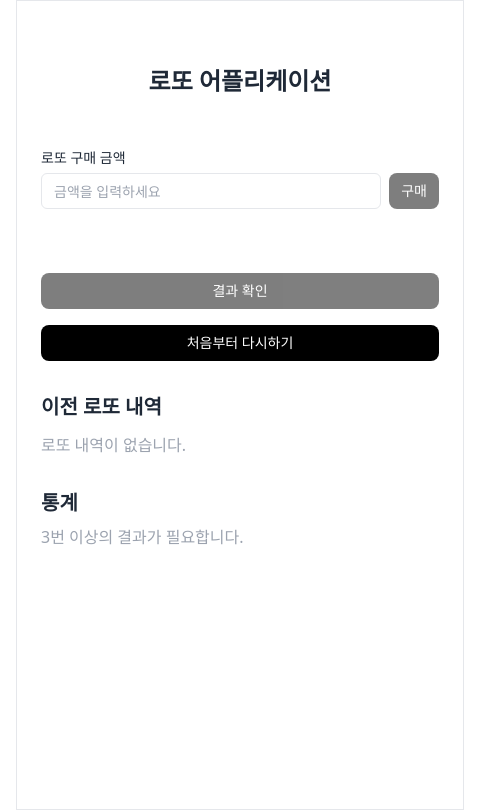
Test: 1.4. 초기화 › 처음부터 다시하기 버튼을 클릭하면 로또 어플리케이션의 처음 상태로 돌아갑니다. 모든 데이터가 초기화되어야 합니다.
Type "1000" into the field with test id "lotto-amount-input". click: (211, 191)
box: [41,173,381,209]
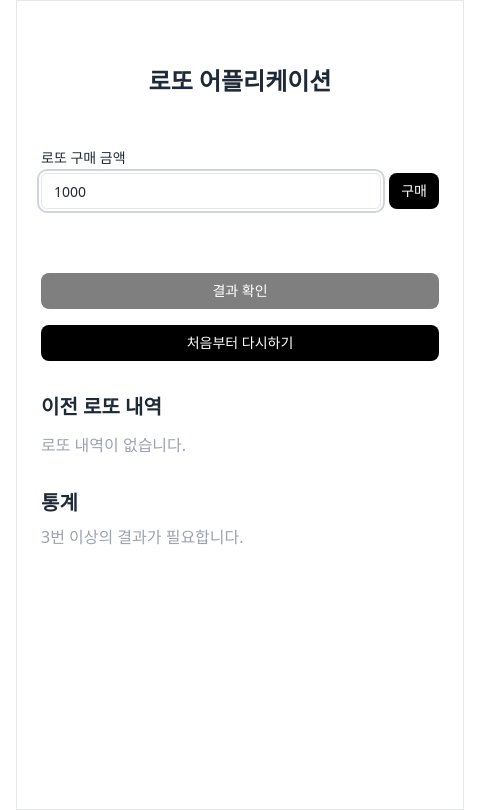
Click the button with test id "lotto-purchase-button". click: (414, 191)
box: [389,173,439,209]
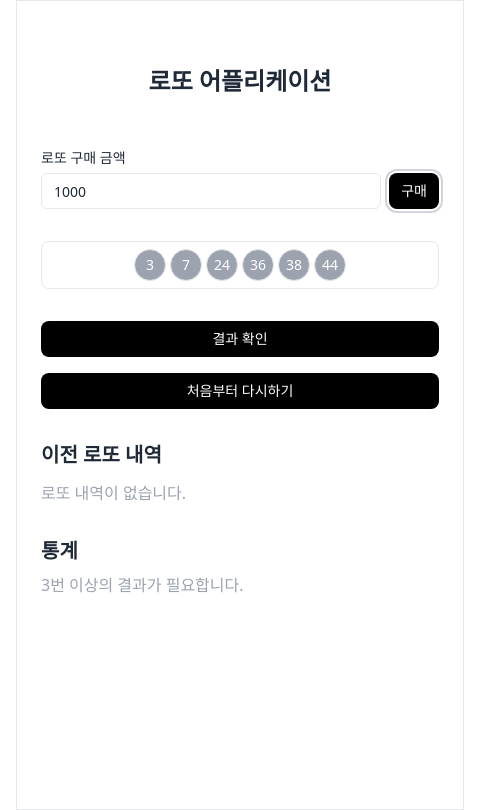
Click the button with test id "show-result-button". click: (240, 339)
box: [41,321,439,357]
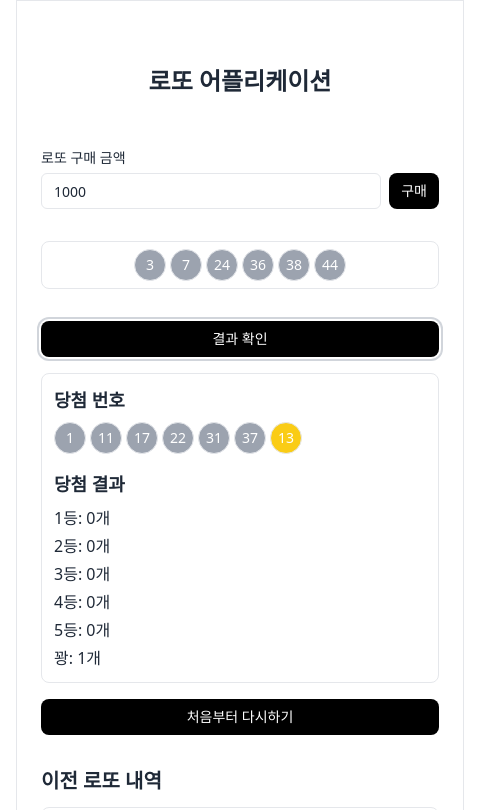
Click the button with test id "reset-button". click: (240, 717)
box: [41,699,439,735]
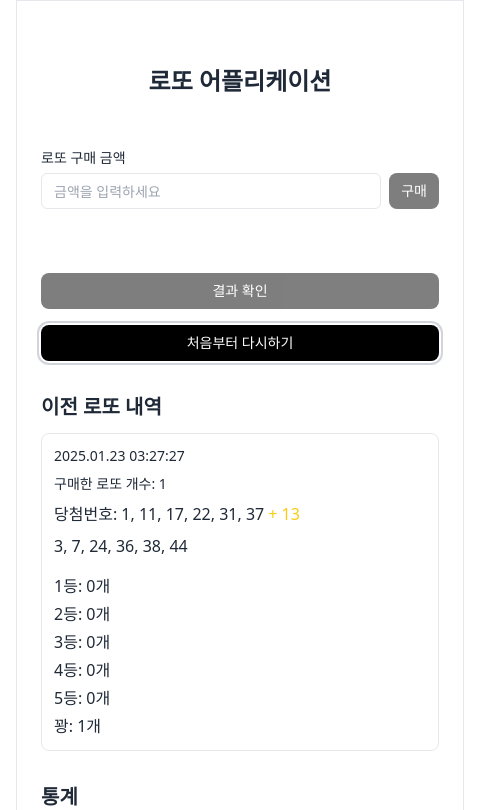
Result: no elements with test id "lotto-item" are shown
Result: the field with test id "lotto-amount-input" is empty at [41,173,381,209]
